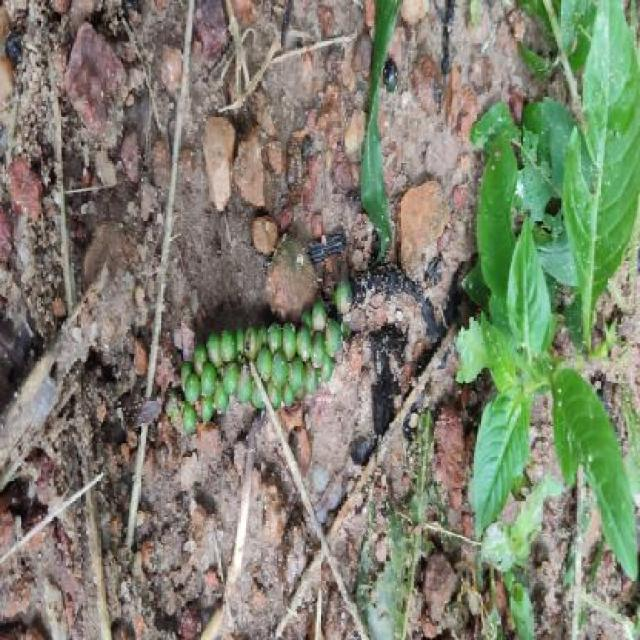UNRIPE: (182, 286, 351, 432)
